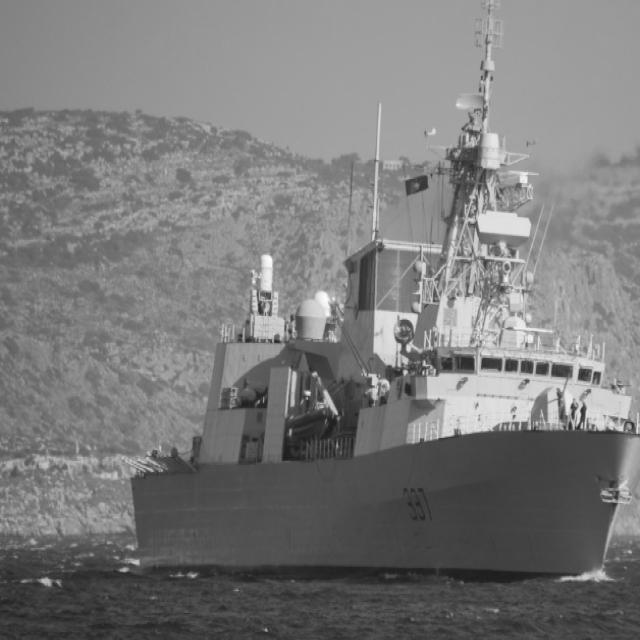Fragata: (130, 1, 640, 580)
